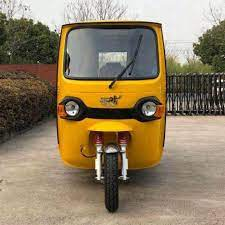auto: (54, 19, 180, 216)
